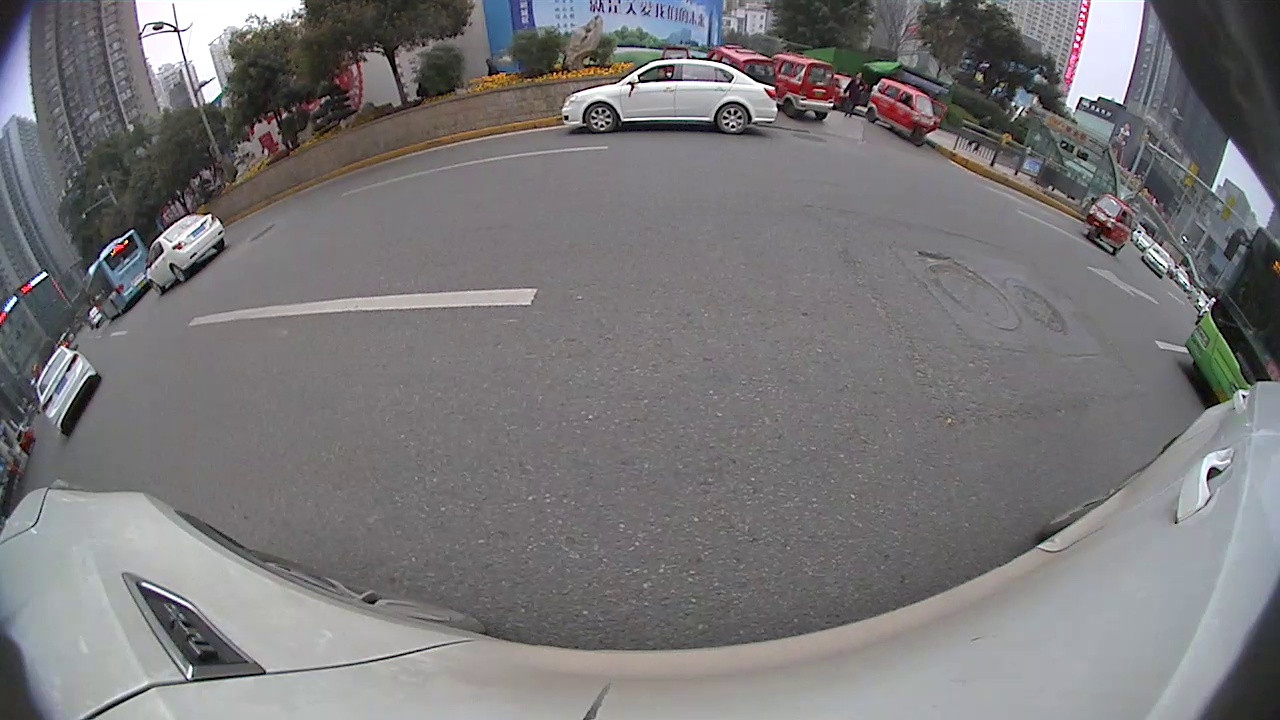bus: (1187, 224, 1279, 427), (79, 228, 158, 322)
car: (562, 56, 778, 137), (143, 214, 233, 297), (33, 344, 103, 438), (1141, 240, 1173, 278), (1174, 267, 1190, 292), (1192, 288, 1208, 310)
front: (584, 102, 617, 133), (150, 280, 168, 300)
person: (849, 70, 859, 117)
rear: (716, 104, 749, 136), (168, 264, 189, 283)
rider: (865, 78, 938, 148), (773, 52, 833, 121), (1084, 191, 1136, 254), (705, 44, 775, 79)
